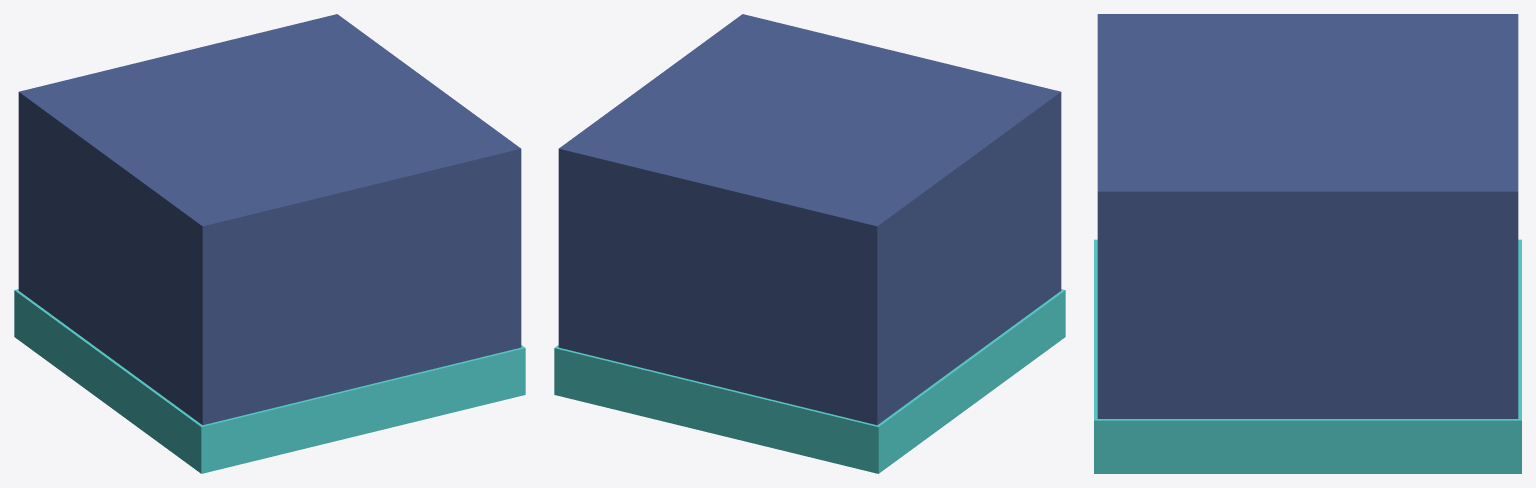
Rendered from mergulhador_manga_inf.glb.
The picture shows the model from 3 angles, left to right: view 1: azimuth 30°, elevation 25°; view 2: azimuth 150°, elevation 25°; view 3: azimuth 270°, elevation 25°; orthographic projection. The views are drawn at different scales.
Visible parts, largest first — view 1: mergulhador_manga_inf; view 2: mergulhador_manga_inf; view 3: mergulhador_manga_inf.
Part boxes in pixels (x1,y1,x2,y2): mergulhador_manga_inf: [14, 14, 525, 473]; mergulhador_manga_inf: [554, 14, 1065, 473]; mergulhador_manga_inf: [1094, 14, 1521, 473].
Bounding box in the file's own units: 0.29 × 0.21 × 0.29.
